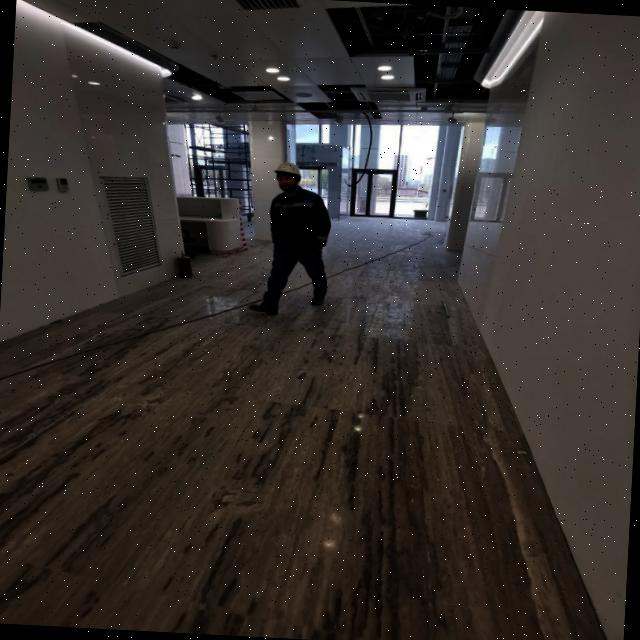Helmet: (275, 162, 303, 184)
NoJacket: (271, 183, 327, 247)
